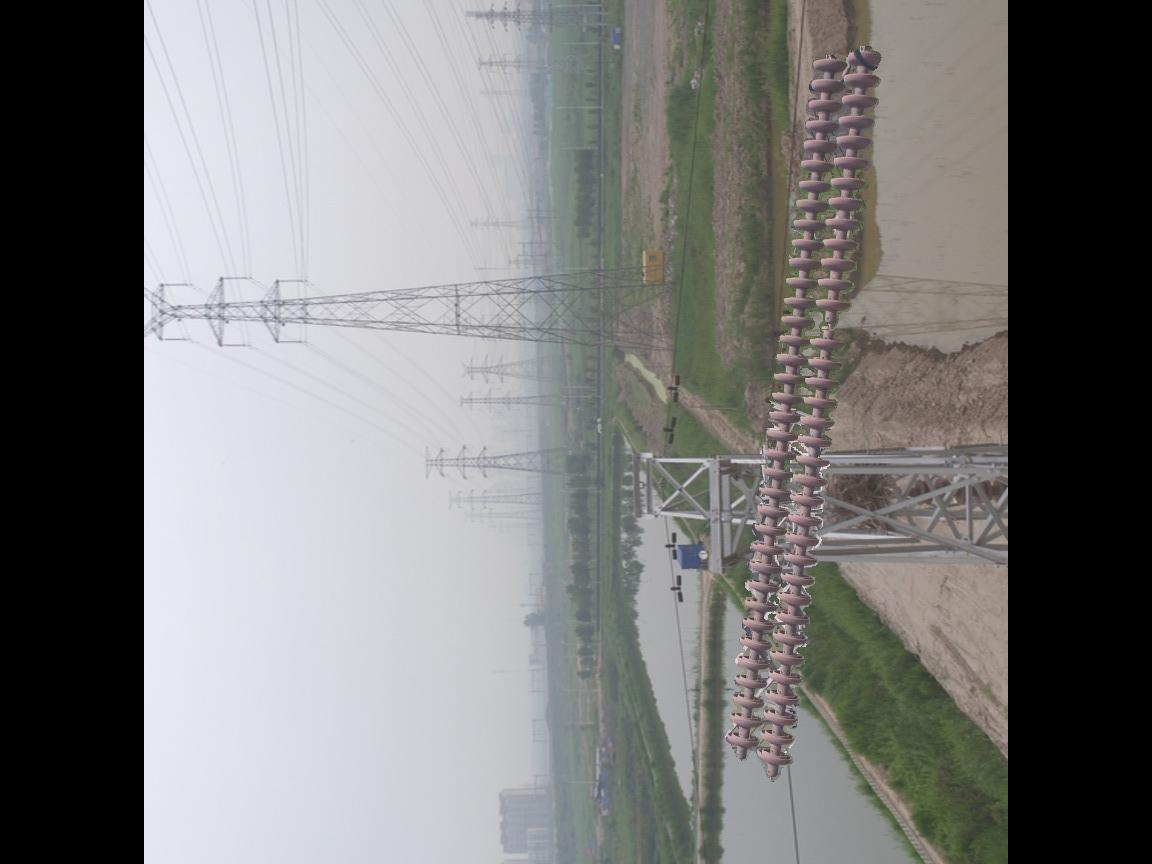insulator: (726, 44, 886, 780)
insulator_stringdrop: (804, 295, 856, 353)
